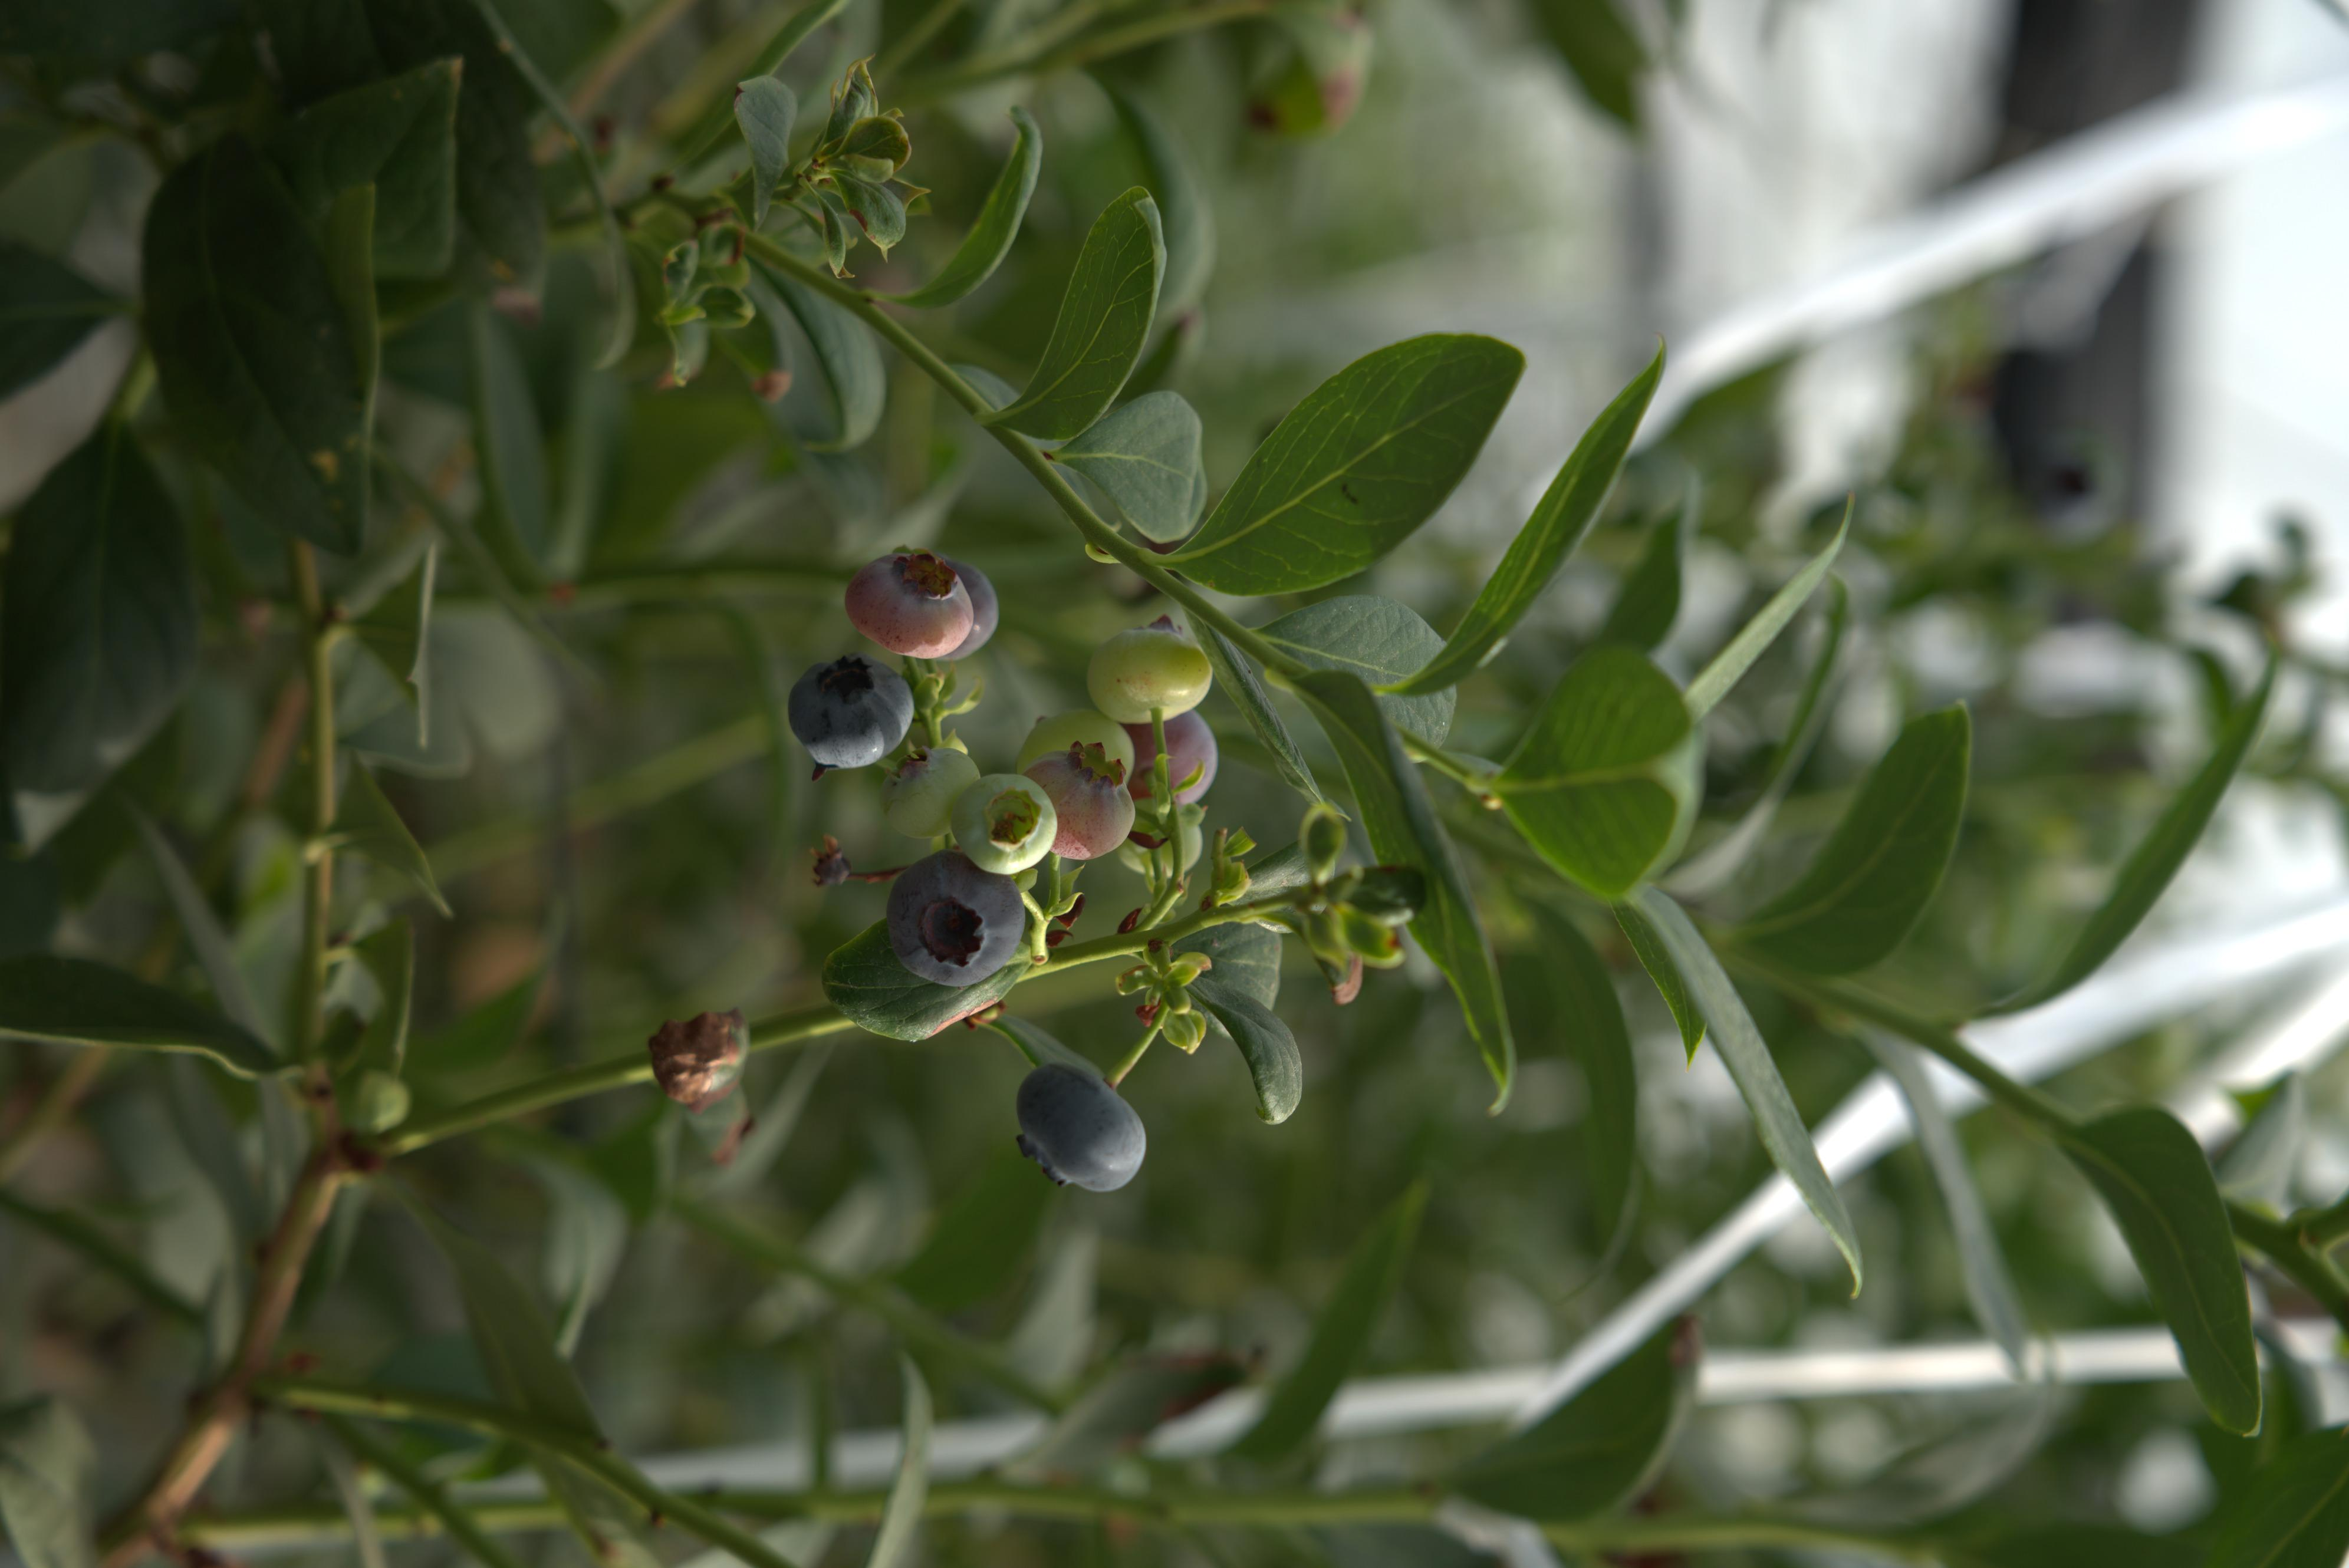ripe-blueberries: (1281, 885, 1481, 976), (1596, 801, 1787, 896), (987, 957, 1155, 1043)
semi-ripe-blueberries: (917, 758, 1083, 838), (807, 927, 989, 999), (1118, 810, 1295, 880), (1155, 859, 1311, 934), (1069, 752, 1215, 810)
